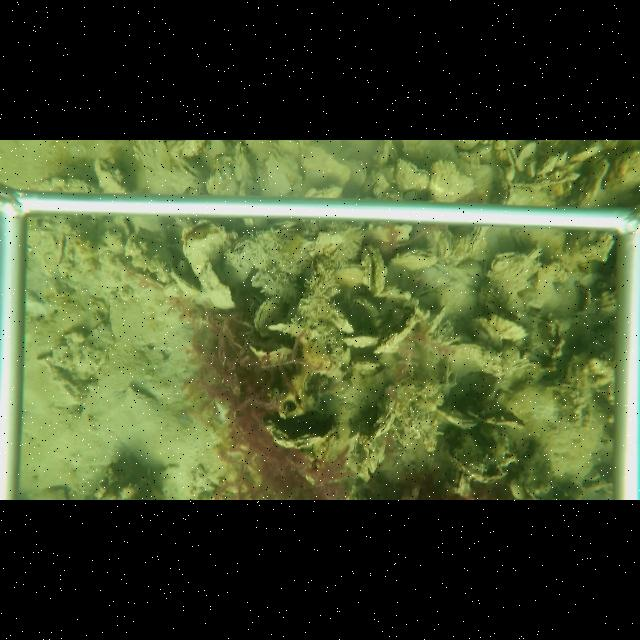Oyster-Closed: (450, 345, 507, 385), (298, 145, 352, 184), (428, 161, 478, 202), (450, 225, 490, 266), (395, 157, 428, 193), (94, 159, 130, 192), (390, 249, 436, 273), (435, 407, 481, 428), (169, 268, 202, 297), (252, 297, 279, 332), (372, 403, 395, 441), (515, 141, 537, 172), (374, 140, 394, 164), (176, 258, 189, 274), (526, 161, 537, 178)
Oyster-Open: (360, 243, 388, 299), (175, 158, 207, 181), (497, 178, 515, 204), (506, 147, 518, 168)
